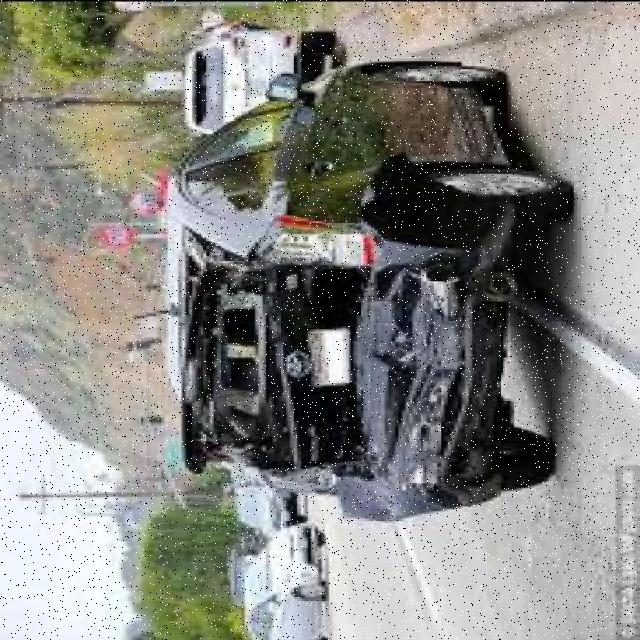damage: (171, 206, 507, 518)
